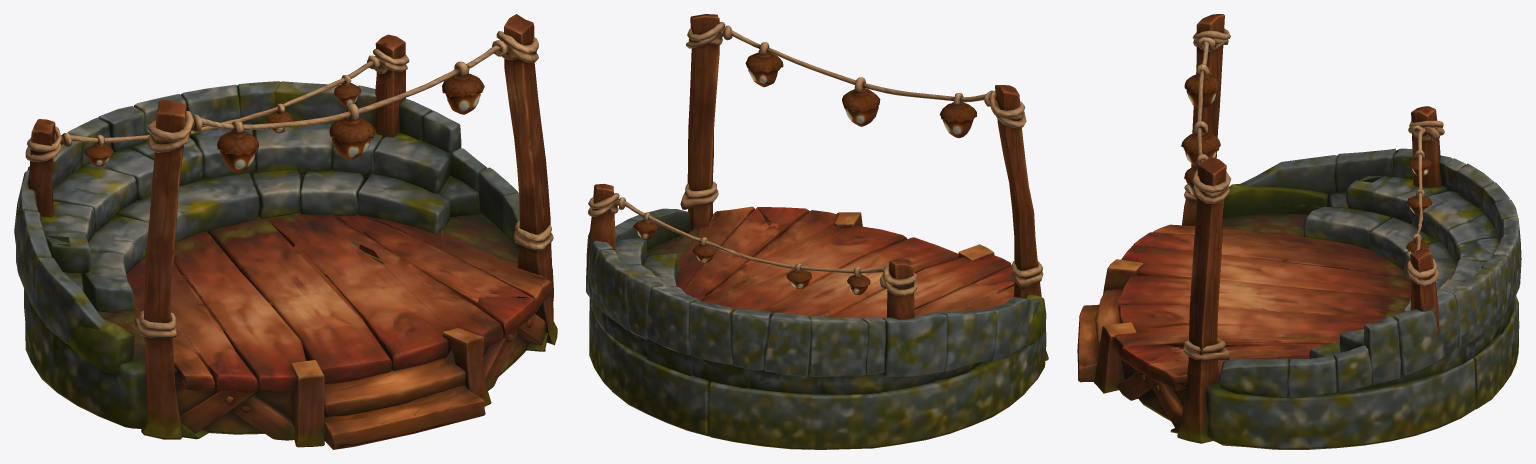
The model's file is theatre.glb.
The picture shows the model from 3 angles, left to right: view 1: azimuth 30°, elevation 25°; view 2: azimuth 150°, elevation 25°; view 3: azimuth 270°, elevation 25°; orthographic projection. The views are drawn at different scales.
Visible parts, largest first — view 1: geometry_0; view 2: geometry_0; view 3: geometry_0.
Boxes of the visible parts, x1,y1,x2,y2 form: geometry_0: [14, 14, 557, 449]; geometry_0: [586, 14, 1048, 449]; geometry_0: [1077, 14, 1521, 449].
Bounding box in the file's own units: 0.9551 × 0.6294 × 0.9302.
1 material, 1 textured.
